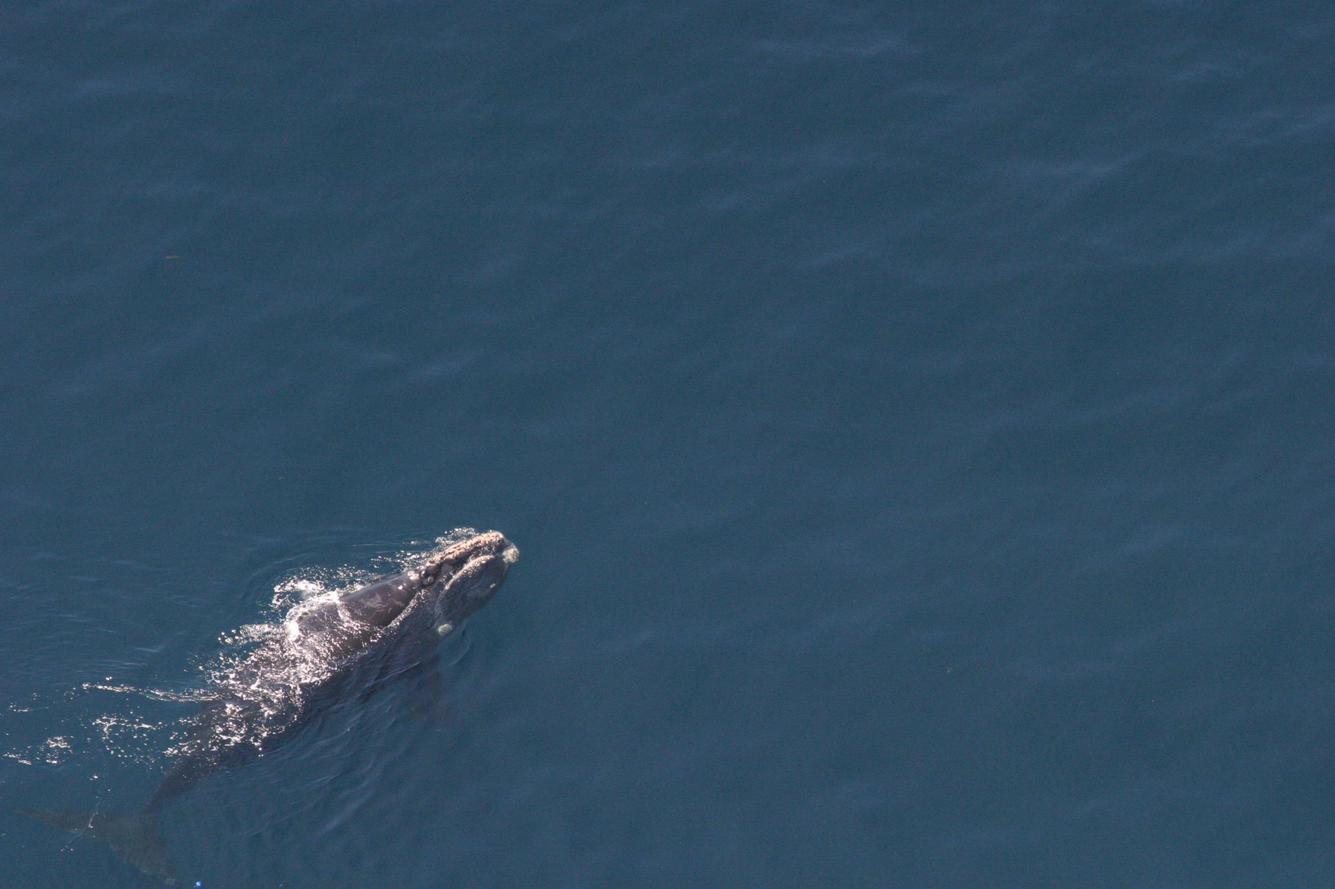whale: (45, 517, 522, 889)
